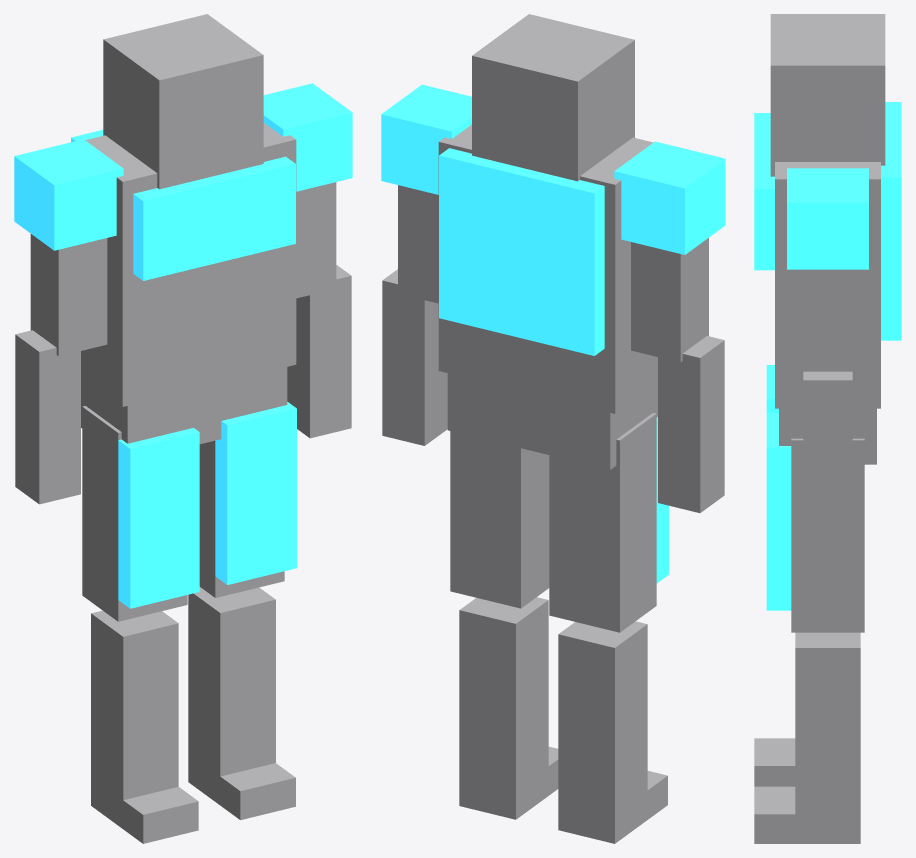
File: fullBody.glb
The picture shows the model from 3 angles, left to right: view 1: azimuth 30°, elevation 25°; view 2: azimuth 150°, elevation 25°; view 3: azimuth 270°, elevation 25°; orthographic projection.
Visible parts, largest first — view 1: Mannequin; view 2: Mannequin; view 3: Mannequin.
Part boxes in pixels (x1=…): Mannequin: x1=14, y1=14, x2=352, y2=843; Mannequin: x1=381, y1=14, x2=725, y2=843; Mannequin: x1=754, y1=14, x2=901, y2=843.
Bounding box in the file's own units: 0.9 × 2.07 × 0.36.
